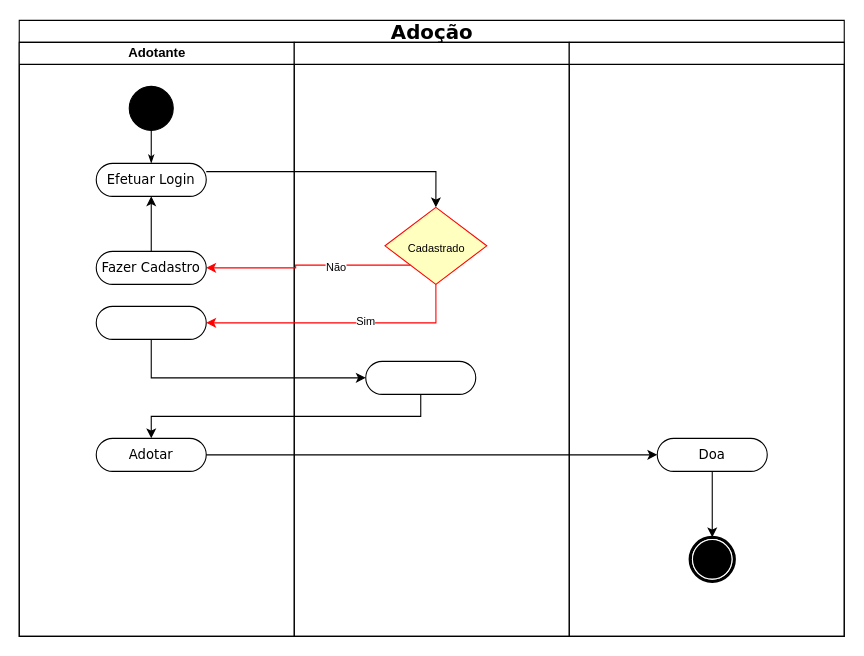
Image size: 864x656. Some labels were removed from this diagram. The box of each missing label's shape, as (x1, y1, x2, y2) in pixels:
Apresenta Pet: (365, 360, 476, 394)
Buscar Pet: (95, 305, 206, 339)
Doador: (568, 41, 844, 636)
Pet Life: (293, 41, 569, 636)
